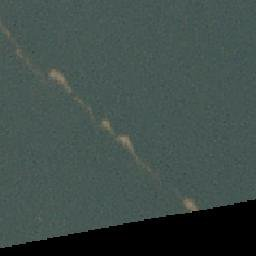debris: (116, 133, 133, 159), (49, 66, 65, 90), (97, 116, 111, 136), (182, 194, 194, 208), (76, 95, 86, 109)
